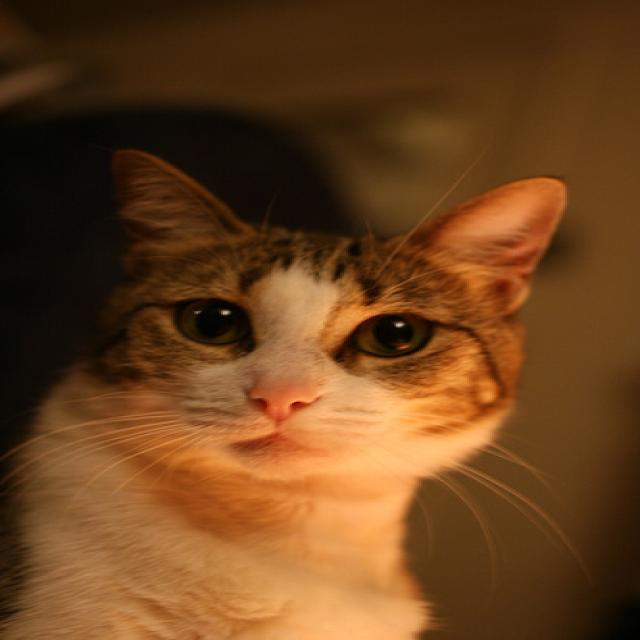left eye: (346, 310, 434, 358)
